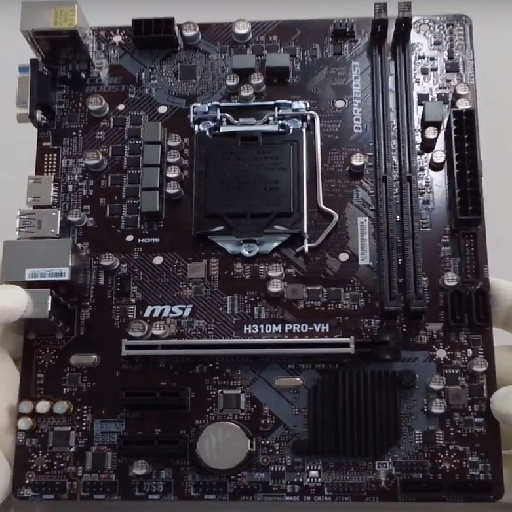CPU: (186, 102, 324, 257)
GPU: (117, 331, 396, 363)
MOTHERBOARD: (8, 7, 505, 504)
RAM: (367, 2, 431, 321)
